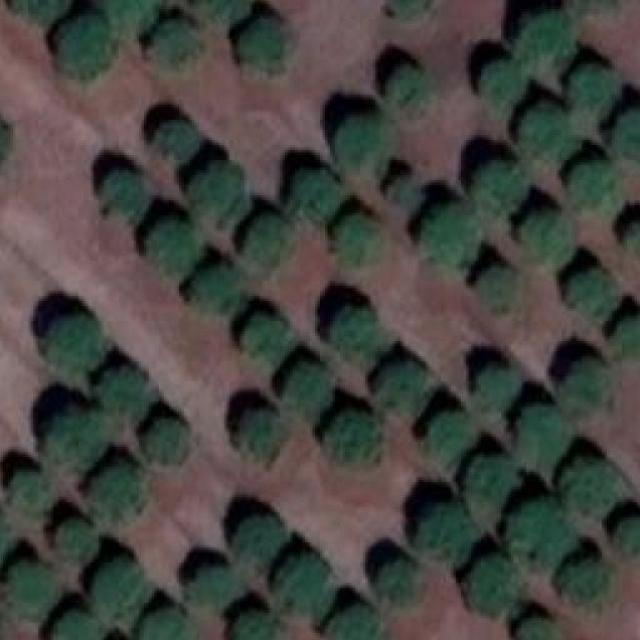Tree: (263, 550, 333, 616), (333, 110, 399, 178), (506, 497, 572, 563), (330, 301, 388, 366), (147, 205, 200, 276), (416, 203, 474, 267), (464, 550, 519, 616), (514, 210, 575, 269), (45, 406, 104, 467), (88, 457, 144, 520), (370, 358, 429, 417), (229, 509, 288, 568), (282, 163, 340, 223), (516, 100, 575, 158), (564, 62, 620, 123), (516, 6, 572, 64), (559, 454, 615, 512), (50, 319, 109, 374), (1, 557, 54, 618), (335, 210, 389, 269), (62, 14, 114, 73), (516, 403, 567, 462), (464, 452, 524, 502), (426, 408, 476, 467), (232, 17, 286, 71), (149, 22, 202, 76), (325, 406, 373, 465), (189, 165, 240, 220), (280, 359, 330, 415), (551, 552, 605, 603), (471, 158, 526, 208), (241, 215, 290, 271), (99, 364, 152, 415), (416, 505, 466, 559), (566, 354, 615, 408), (184, 557, 235, 608), (476, 264, 524, 317), (564, 165, 618, 210), (99, 557, 144, 611), (137, 416, 192, 460), (471, 361, 519, 410), (237, 409, 281, 460), (199, 264, 240, 317), (149, 120, 194, 168), (373, 554, 417, 603), (50, 517, 99, 561), (244, 308, 288, 356), (566, 268, 610, 316), (479, 62, 519, 113), (385, 64, 429, 110), (99, 173, 149, 213), (609, 104, 640, 167), (337, 603, 386, 640), (136, 603, 184, 640), (232, 605, 276, 640), (8, 470, 46, 510), (99, 0, 154, 24), (55, 610, 99, 640), (509, 615, 560, 640), (612, 316, 640, 361), (612, 512, 640, 556), (385, 0, 438, 22), (192, 0, 253, 19), (388, 170, 418, 205), (13, 0, 61, 19)
